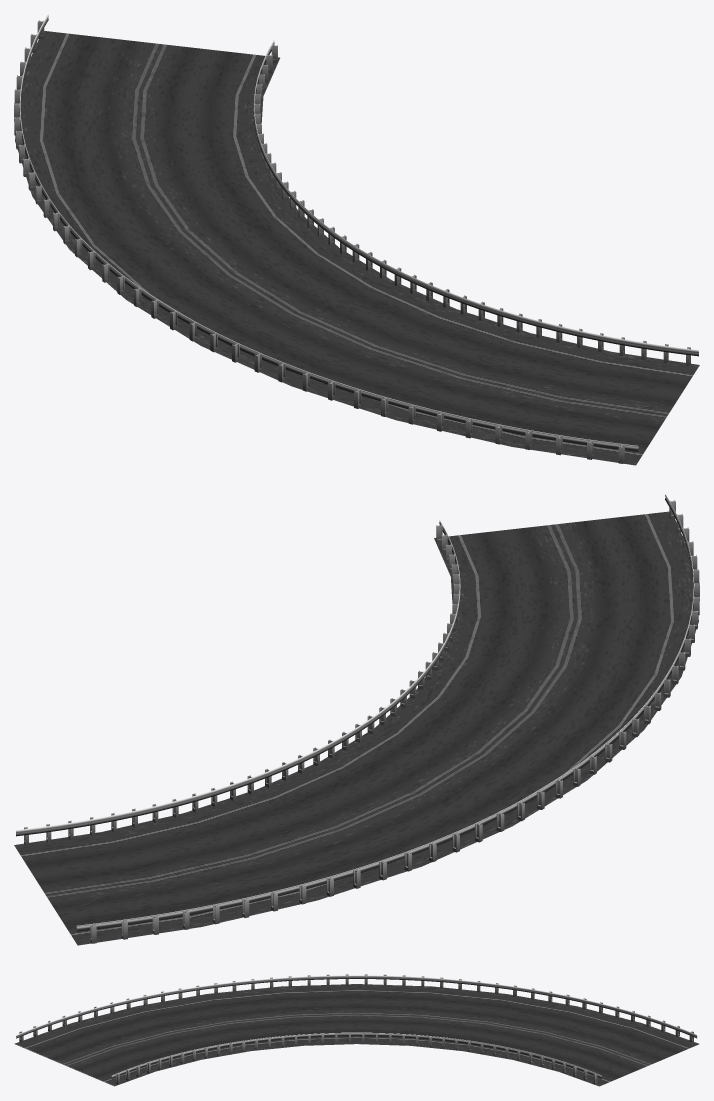
Rendered from maimi_street_90_doubleGL.FBX.
The picture shows the model from 3 angles, top to bottom: view 1: azimuth 30°, elevation 25°; view 2: azimuth 150°, elevation 25°; view 3: azimuth 270°, elevation 25°; orthographic projection. The views are drawn at different scales.
Visible parts, largest first — view 1: Plane004, Group003; view 2: Plane004, Group003; view 3: Plane004, Group003.
Boxes of the visible parts, x1,y1,x2,y2 form: Plane004: (15,31,699,465); Group003: (14,14,698,463); Plane004: (14,511,698,945); Group003: (16,494,699,943); Plane004: (14,984,699,1086); Group003: (16,974,697,1084).
Bounding box in the file's own units: 597 × 27 × 1688.
